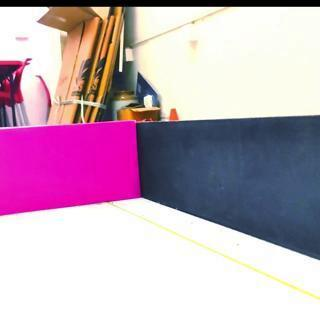xparking: (1, 128, 136, 216)
